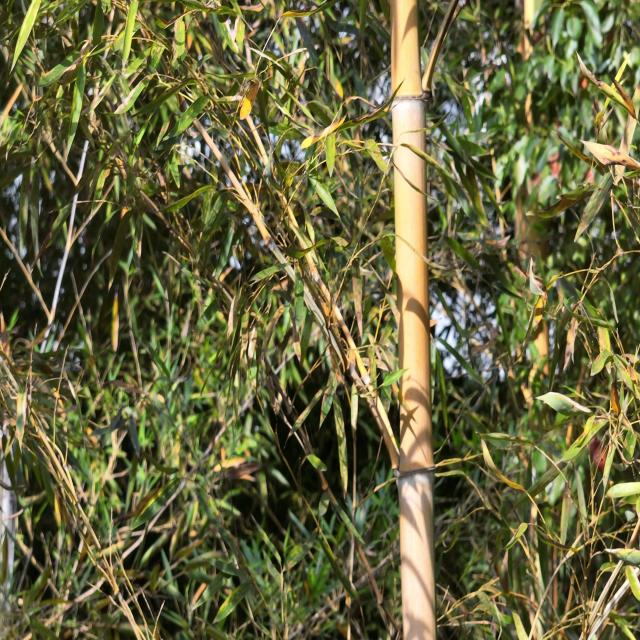Bamboo-shoots: (389, 0, 436, 640)
